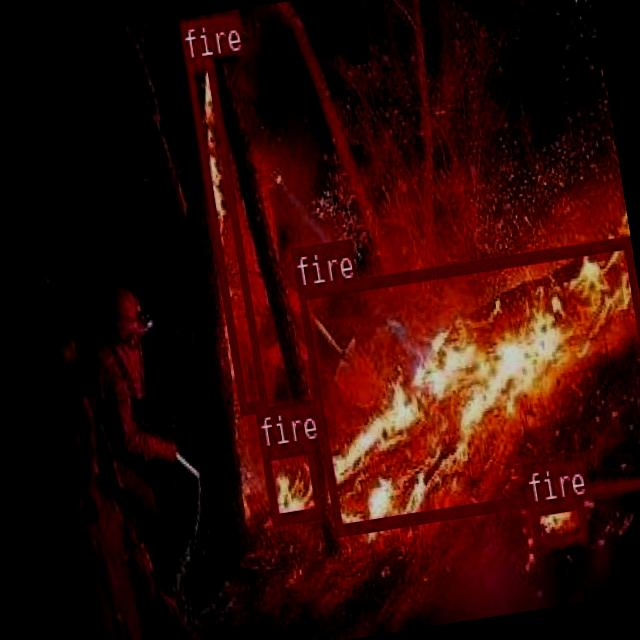fire: (295, 235, 640, 533), (184, 55, 267, 412), (260, 440, 322, 525), (528, 496, 586, 546)
